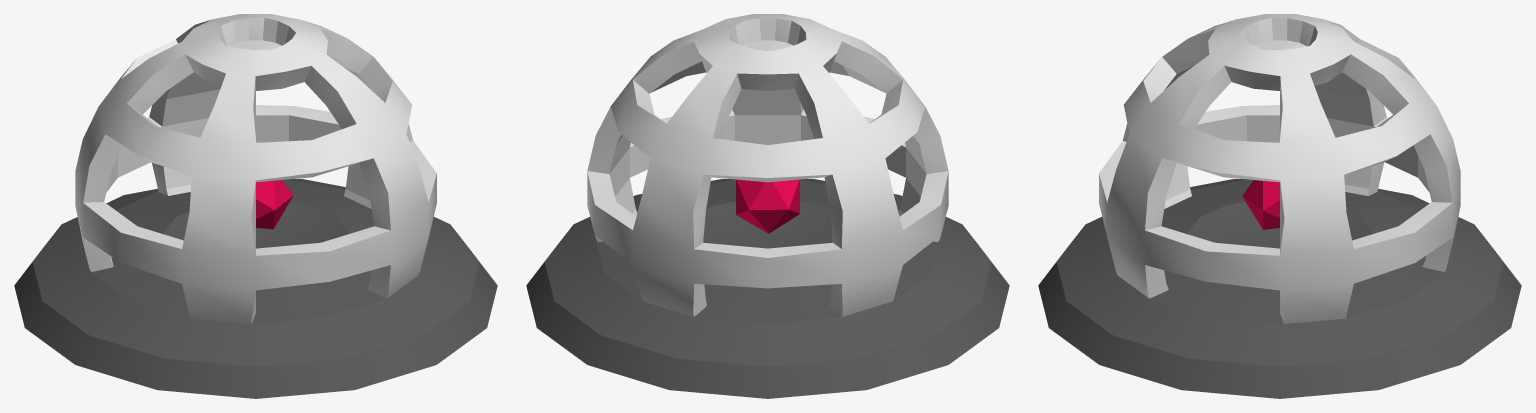
The model's file is EnemyTurret.fbx.
3 views of the same model, side by side, from view 1: azimuth 30°, elevation 25°; view 2: azimuth 150°, elevation 25°; view 3: azimuth 270°, elevation 25° (orthographic).
Visible parts, largest first — view 1: pSphere3; view 2: pSphere3; view 3: pSphere3.
Part boxes in pixels (box(x1,y1,x2,y2)): pSphere3: box(14, 14, 497, 398); pSphere3: box(526, 14, 1009, 398); pSphere3: box(1038, 14, 1521, 398).
Size of the model in its own units: 6.26 by 3.77 by 6.29.
